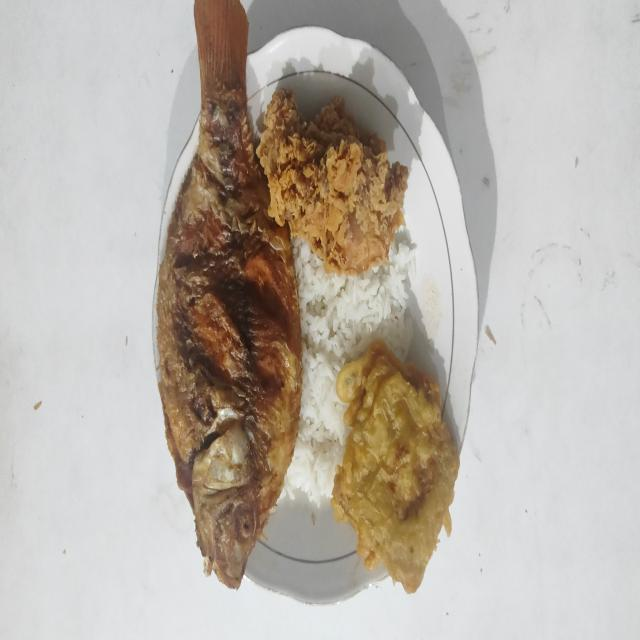ikan_mujair: (156, 0, 302, 589)
nasi_putih: (281, 226, 416, 508)
